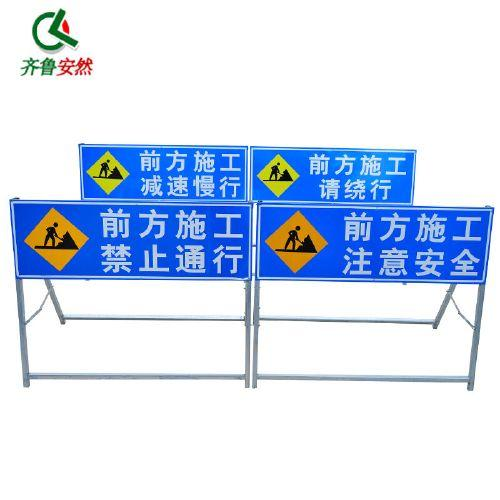sign: (10, 203, 248, 282), (260, 205, 485, 283), (80, 146, 248, 200), (251, 148, 413, 204)
